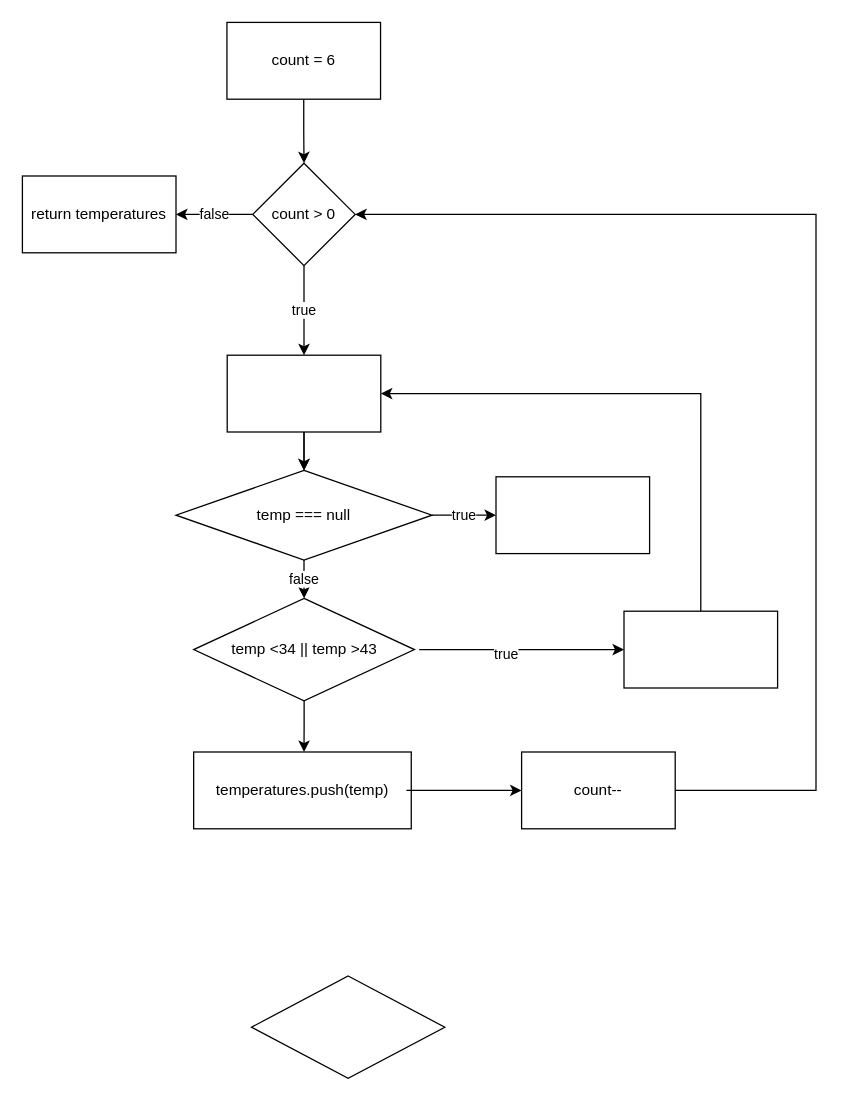
The diagram is 849 pixels wide and 1101 high, and some of its shapes have lost their labels. The centre of each missing label's shape, as x and y in pixels:
alert(warning): (700,649)
return null: (572,515)
temp = prompt(): (303,393)
